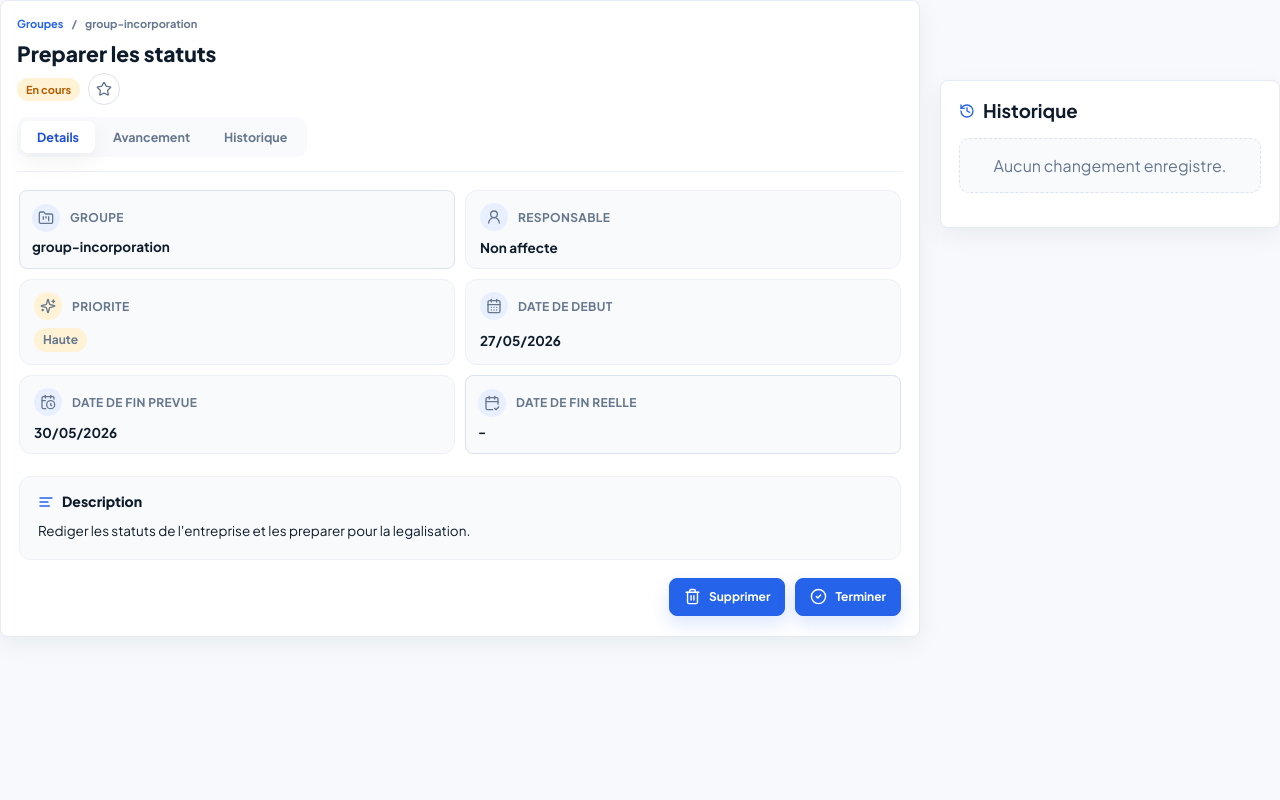
it: TaskDetail › marks the task as completed and switches to the reopen action
Click the button "Terminer": (848, 597) 795,578 -> 901,616
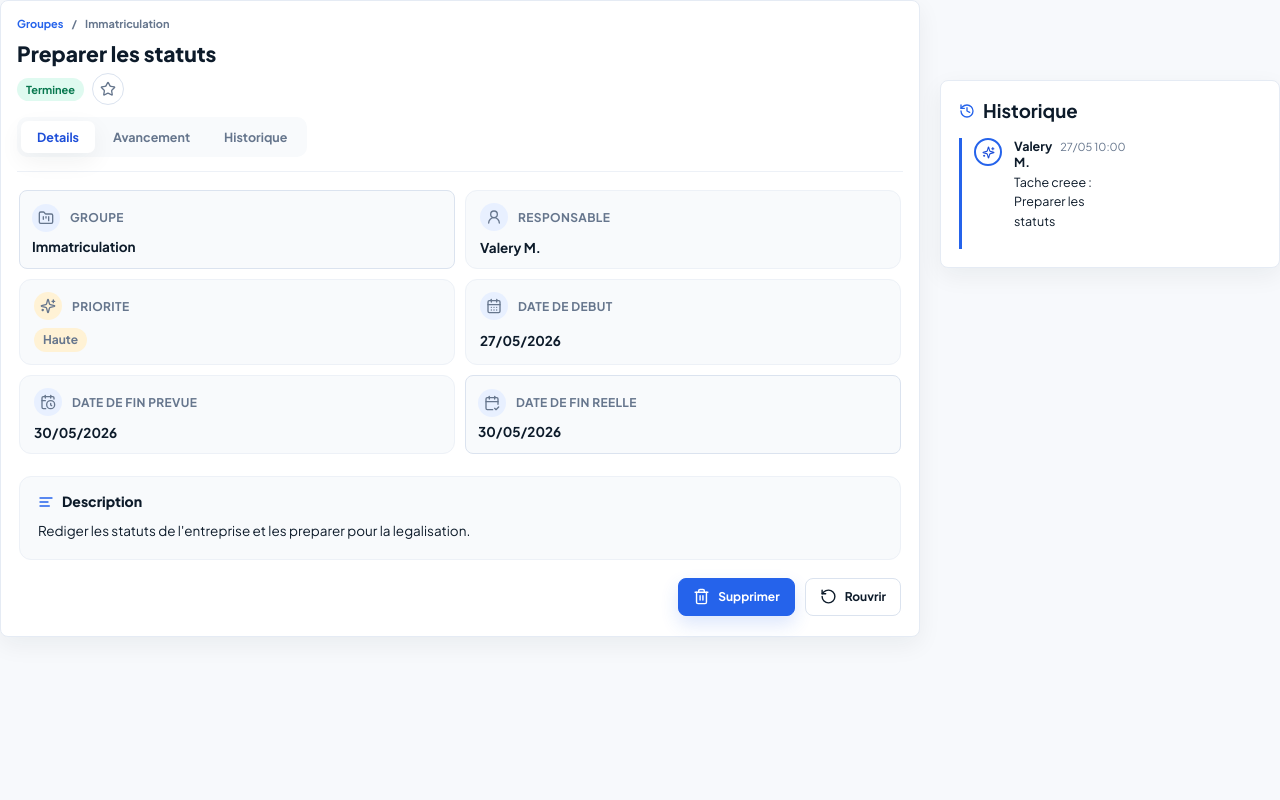
Expected: the button "Rouvrir" is shown, 805,578 -> 901,616
Expected: the text "Terminee" is shown, 17,78 -> 84,101
